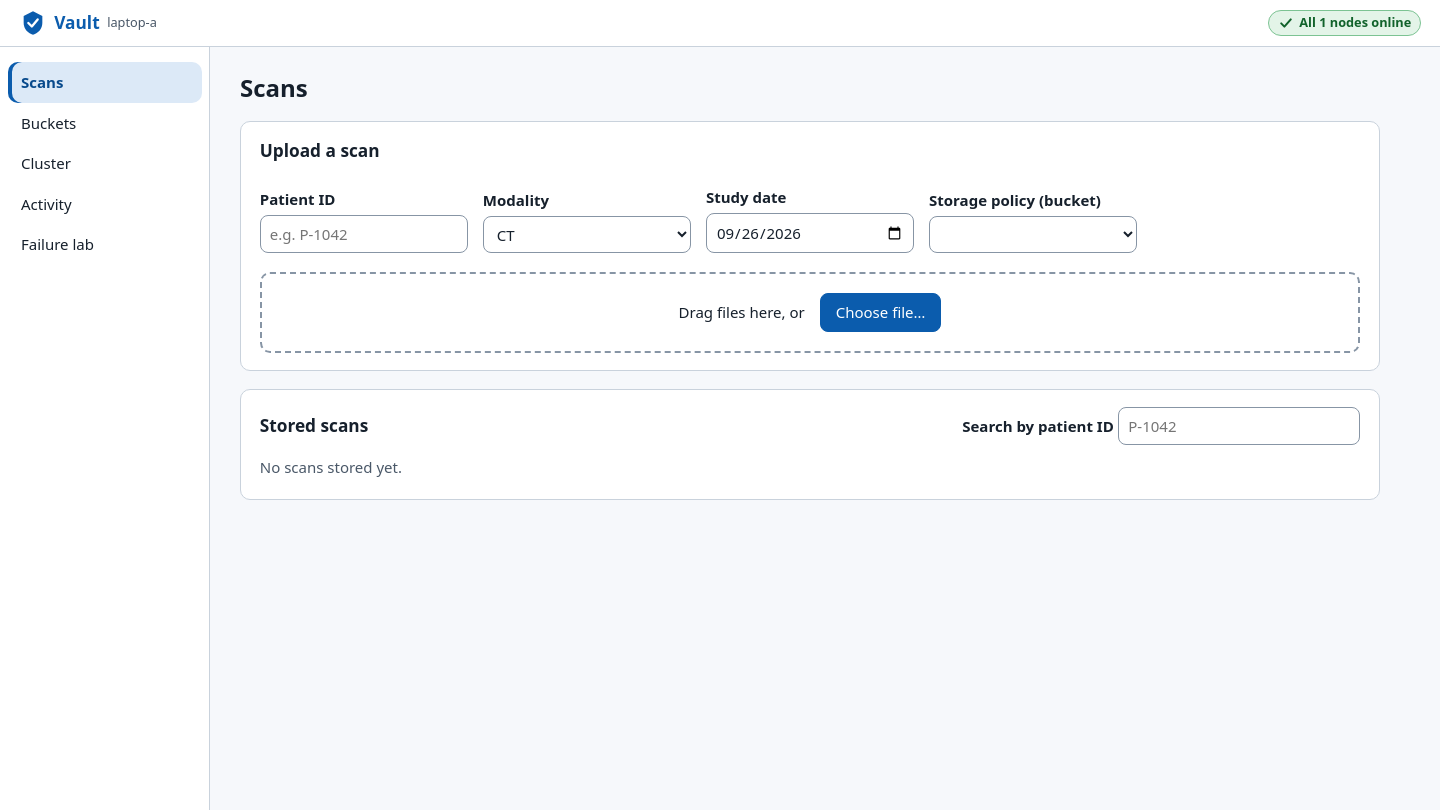
Test: shell accessibility › exposes a skip link, current page, and text-not-colour status
Expected: the navigation bar named "Main" is shown, [0,47,210,809]
Click the button "Failure lab".
click(104, 244)  # box [8,224,202,264]
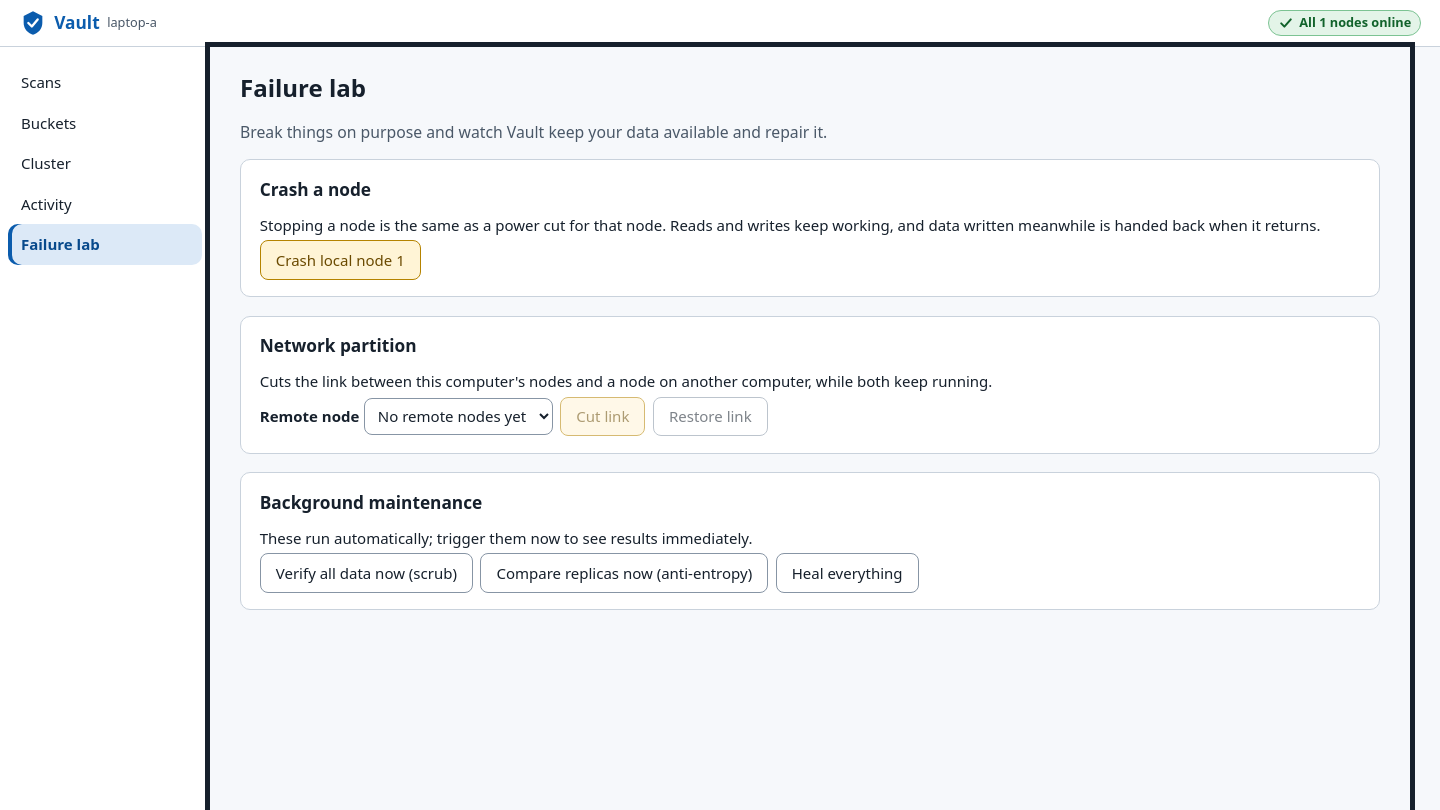
Expected: the heading "Failure lab" is shown, [240,70,366,104]
